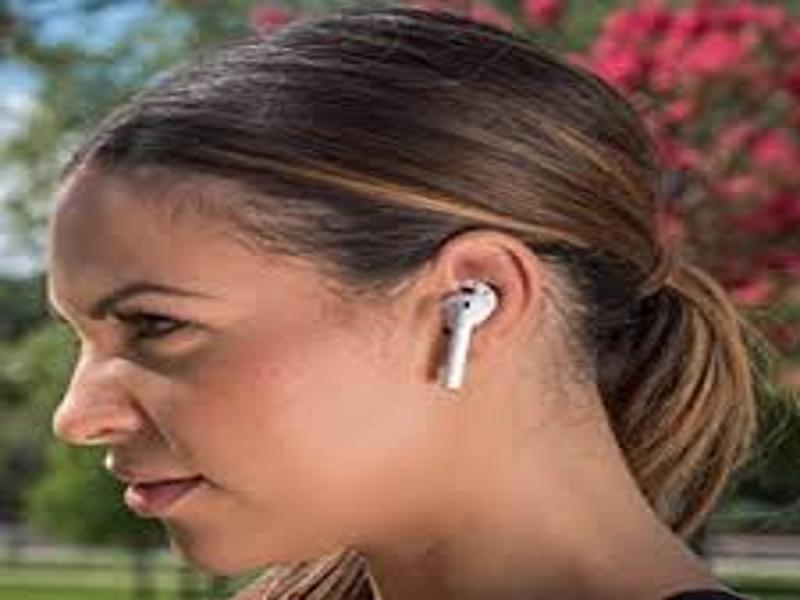headphone: (434, 279, 500, 392)
